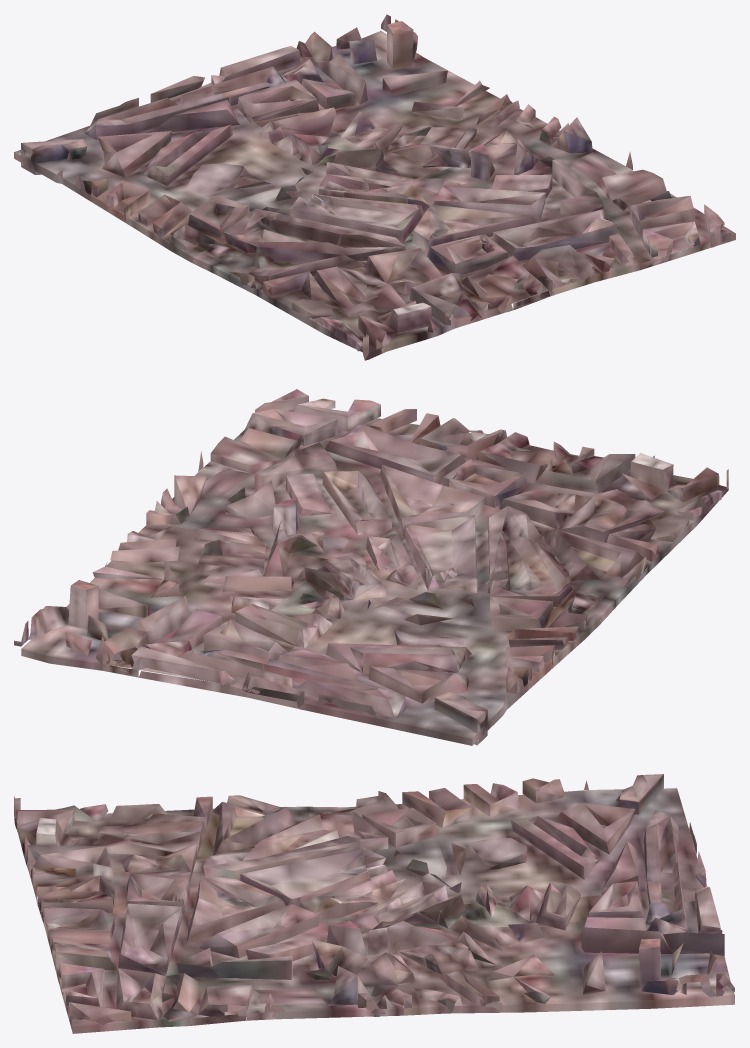
3 views of the same model, one above another, from view 1: azimuth 30°, elevation 25°; view 2: azimuth 150°, elevation 25°; view 3: azimuth 270°, elevation 25° (orthographic). The views are drawn at different scales.
Visible parts, largest first — view 1: Mesh_0; view 2: Mesh_0; view 3: Mesh_0.
Part boxes in pixels (box(x1,y1,x2,y2)): Mesh_0: box(14, 14, 735, 360); Mesh_0: box(14, 389, 728, 745); Mesh_0: box(14, 774, 734, 1033).
Bounding box in the file's own units: 532 × 61.79 × 661.
Materials: 2 (2 with a texture image).
